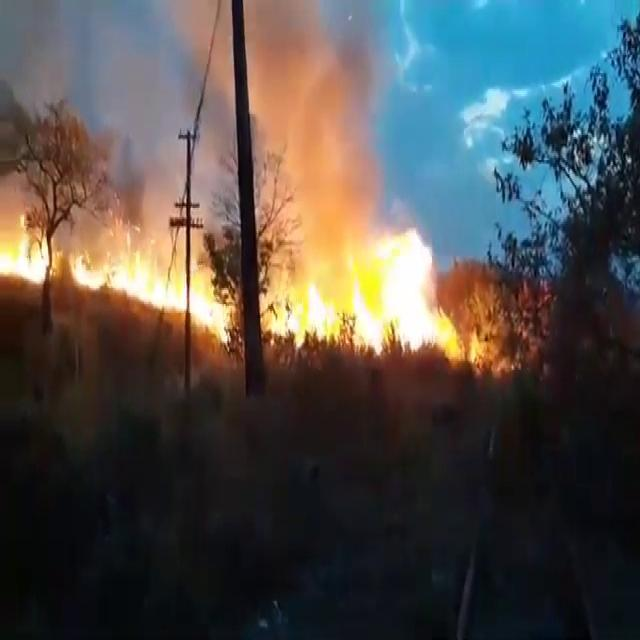Fire: (274, 236, 447, 352), (68, 250, 232, 338), (4, 213, 48, 281)
Smoke: (23, 7, 222, 244), (244, 7, 416, 229)
